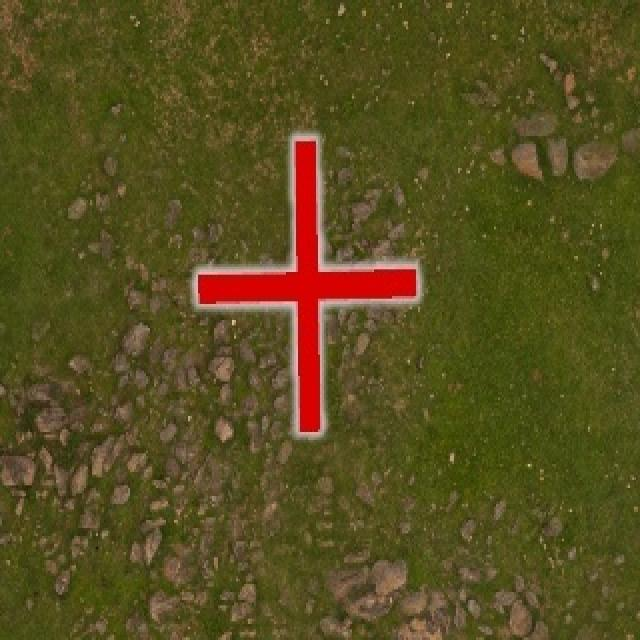x_marker: (195, 137, 417, 431)
